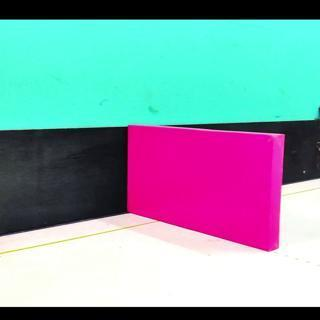xparking: (133, 143, 275, 248)
